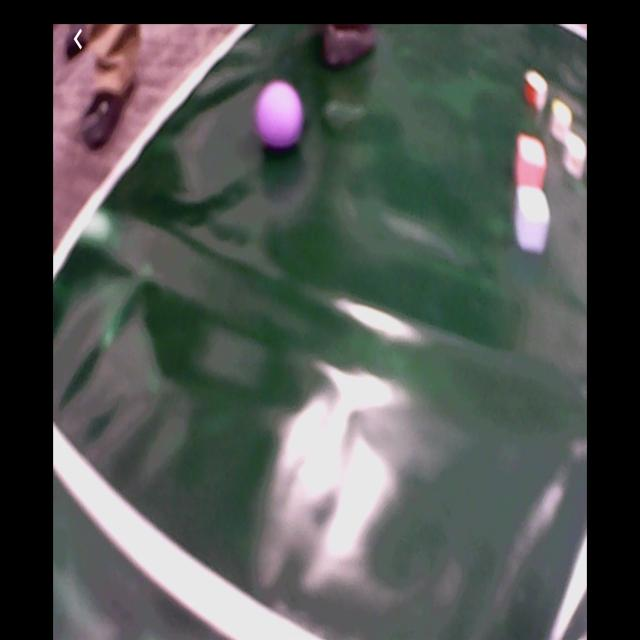ball: (257, 81, 305, 151)
